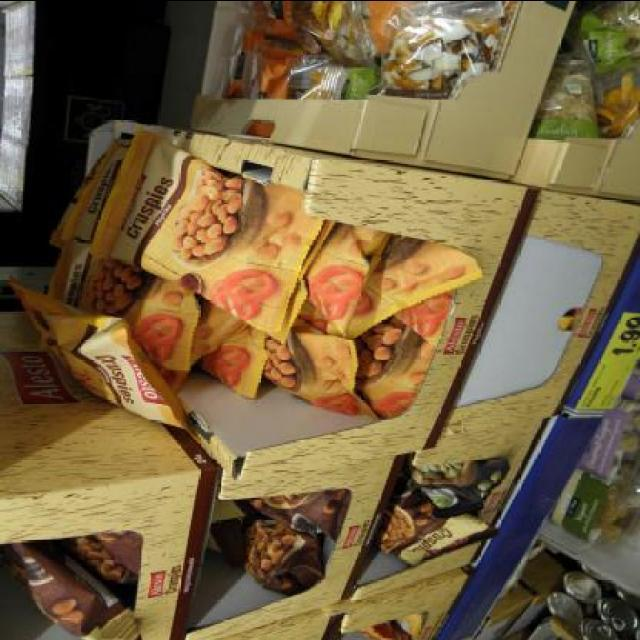Chips: (94, 155, 316, 297)
